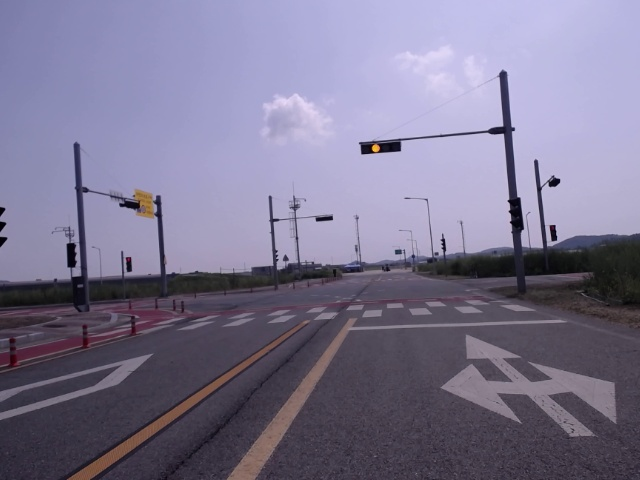orange_4: (361, 140, 401, 154)
